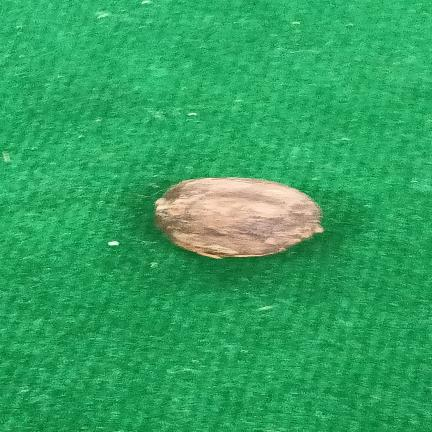husk: (155, 177, 323, 259)
